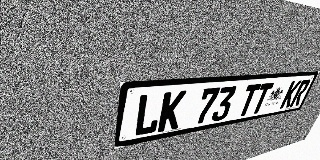3: (210, 86, 237, 122)
7: (193, 87, 221, 126)
K: (157, 90, 187, 132), (279, 80, 302, 109)
L: (133, 92, 164, 137)
R: (289, 79, 311, 107)
T: (236, 84, 261, 117), (249, 83, 274, 115)
